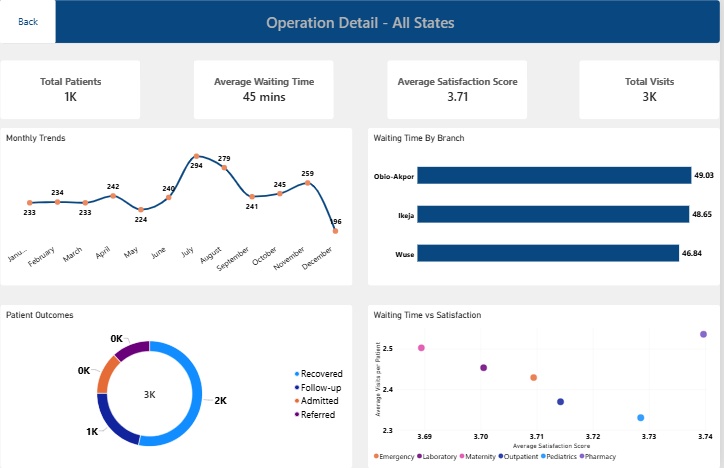

The page's visual inventory and layout, read from the dashboard file:
{"tool":"powerbi","page":{"name":"Drill-through - Operations Detail","canvas":[2000,1300],"ordinal":7},"visuals":[{"type":"actionButton","box":[0,0,100,40],"z":0},{"type":"cardVisual","fields":{"Data":["Date_Table.Drill Title Ops"]},"box":[0,0,2000,120],"z":1},{"type":"cardVisual","fields":{"Data":["Date_Table.Average Waiting Time"]},"box":[536.7,165,390,165],"z":2},{"type":"cardVisual","fields":{"Data":["Date_Table.Average Satisfaction Score"]},"box":[1073.3,165,390,165],"z":3},{"type":"cardVisual","fields":{"Data":["Date_Table.Total Patients"]},"box":[0,165,390,165],"z":4},{"type":"cardVisual","fields":{"Data":["Date_Table.Total Visits"]},"box":[1610,165,390,165],"z":5},{"type":"lineChart","title":"Monthly Trends","fields":{"Category":["Date_Table.Month"],"Y":["Date_Table.Total Visits"]},"box":[0,355,980,440],"z":6},{"type":"barChart","title":"Waiting Time By Branch","fields":{"Category":["Patient_Visits.Branch"],"Y":["Avg(Patient_Visits.Waiting_Time_Min)"]},"box":[1020,355,980,440],"z":7},{"type":"donutChart","title":"Patient Outcomes","fields":{"Category":["Patient_Visits.Outcome"],"Y":["Date_Table.Total Visits"]},"box":[0,845,980,455],"z":8},{"type":"scatterChart","title":"Waiting Time vs Satisfaction","fields":{"Series":["Patient_Visits.Department"],"Size":["Date_Table.Total Visits"],"X":["Date_Table.Average Satisfaction Score"],"Y":["Date_Table.Average Visits per Patient"]},"box":[1020,845,980,455],"z":10},{"type":"actionButton","box":[0,0,155,120],"z":11}]}

Visuals, with their boxes in screenshot pixels (x1, y1, x2, y2), scaled from the page's 2000x1300 canvas onto the 724x468 screenshot:
actionButton: [0, 0, 36, 14]
cardVisual - Date_Table.Drill Title Ops: [0, 0, 723, 43]
cardVisual - Date_Table.Average Waiting Time: [194, 59, 335, 119]
cardVisual - Date_Table.Average Satisfaction Score: [389, 59, 530, 119]
cardVisual - Date_Table.Total Patients: [0, 59, 141, 119]
cardVisual - Date_Table.Total Visits: [583, 59, 723, 119]
"Monthly Trends" lineChart: [0, 128, 355, 286]
"Waiting Time By Branch" barChart: [369, 128, 723, 286]
"Patient Outcomes" donutChart: [0, 304, 355, 467]
"Waiting Time vs Satisfaction" scatterChart: [369, 304, 723, 467]
actionButton: [0, 0, 56, 43]
